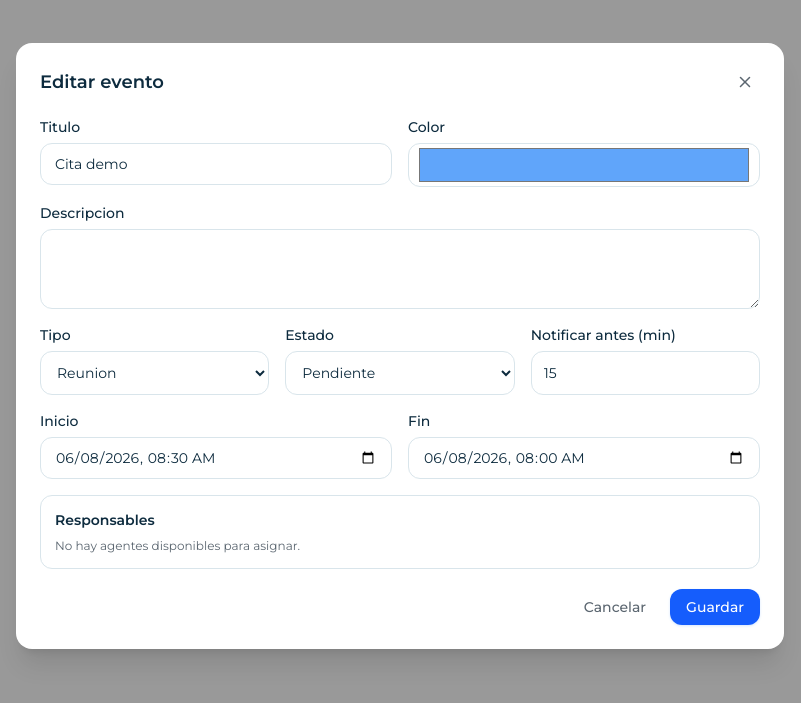
Test case: AgendaEventModal › shows invalid range message on submit
Click the button "Guardar": (715, 607) [670,589,760,625]
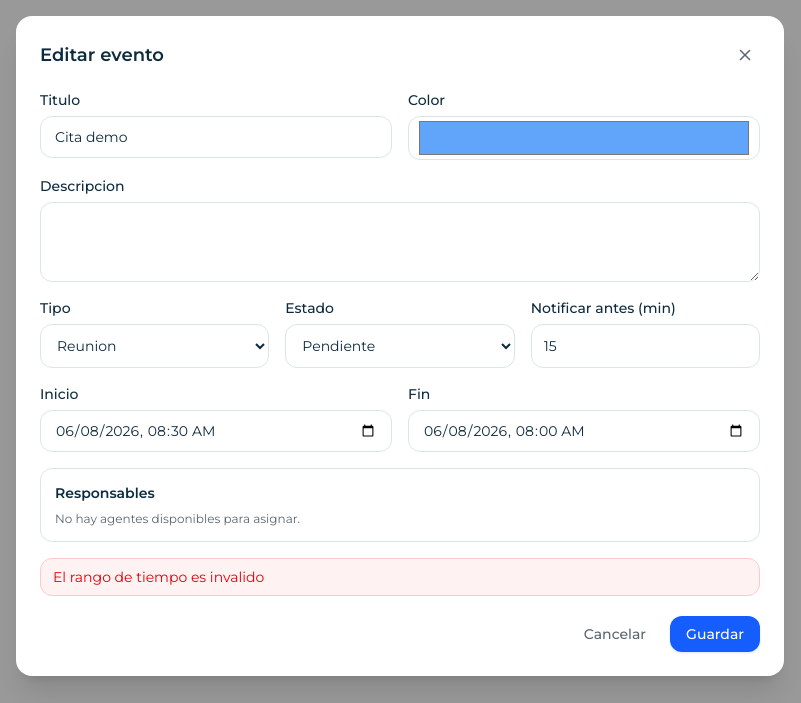
Result: the text "El rango de tiempo es invalido" is shown at [40,558,760,596]
